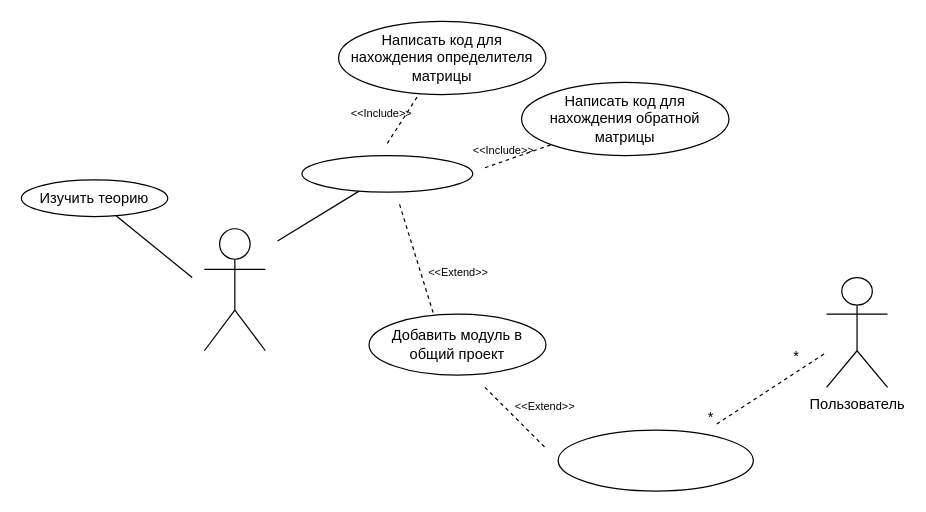
Image size: 926x512. Some labels were removed from this diagram. Here are the shapes that lost their labels. From the top down, the centre of each, then its label:
At [387,173]: "Разработать модуль".
At [234,289]: "Студент".
At [655,460]: "Использовать калькулятор матриц".
